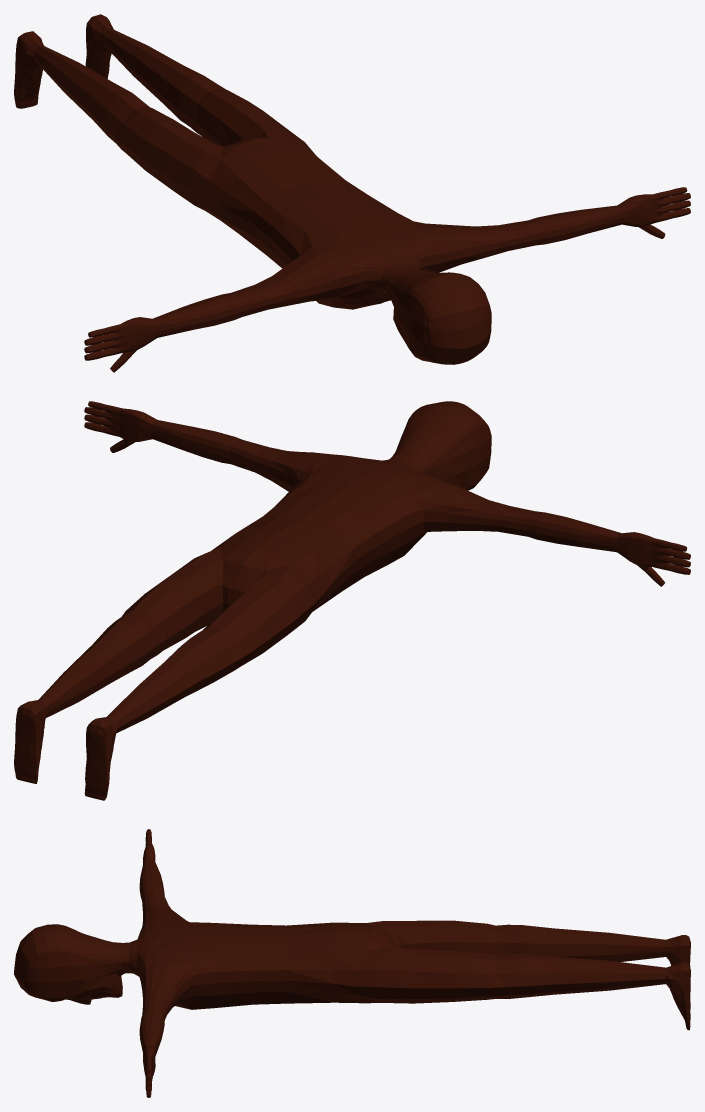
File: enemCara.obj
3 views of the same model, one above another, from view 1: azimuth 30°, elevation 25°; view 2: azimuth 150°, elevation 25°; view 3: azimuth 270°, elevation 25° (orthographic). The views are drawn at different scales.
Visible parts, largest first — view 1: Plane; view 2: Plane; view 3: Plane.
Boxes of the visible parts, left/top/right/bottom form: Plane: left=14, top=14, right=690, bottom=372; Plane: left=14, top=401, right=690, bottom=800; Plane: left=14, top=829, right=690, bottom=1097.
Bounding box in the file's own units: 6.02 × 0.9805 × 7.06.
